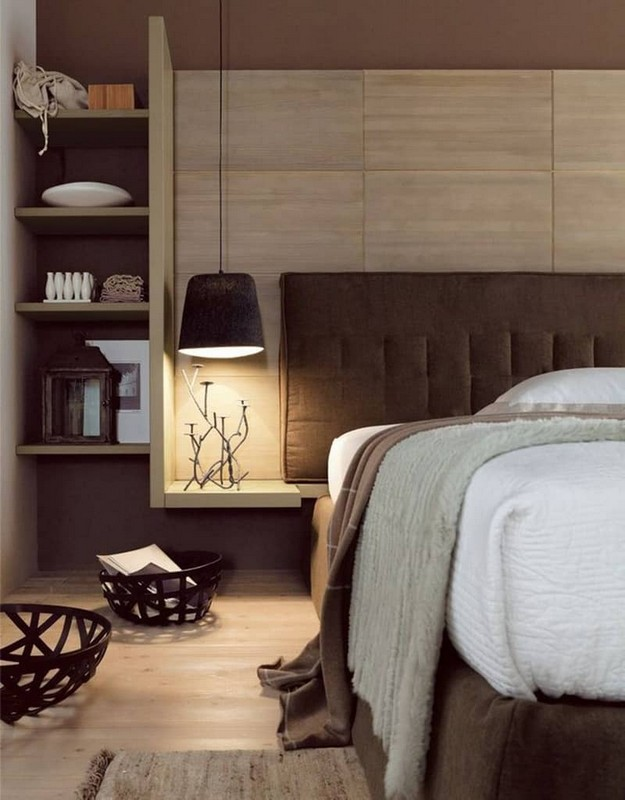bed: (285, 272, 620, 788)
lamp: (183, 254, 264, 369)
